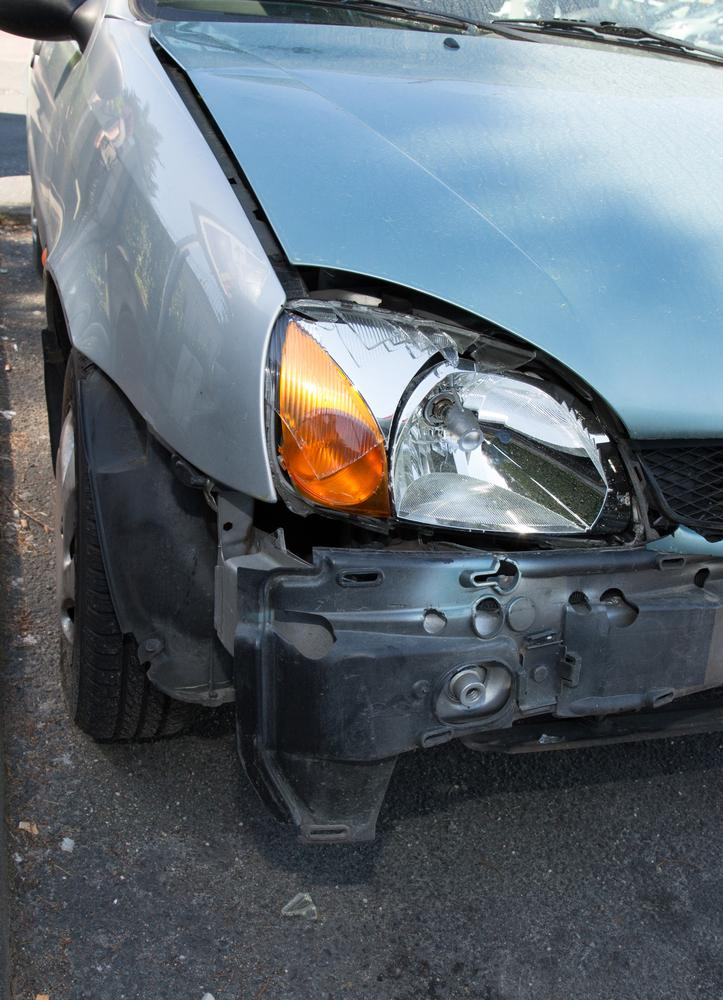lamp broken: (265, 295, 641, 544)
